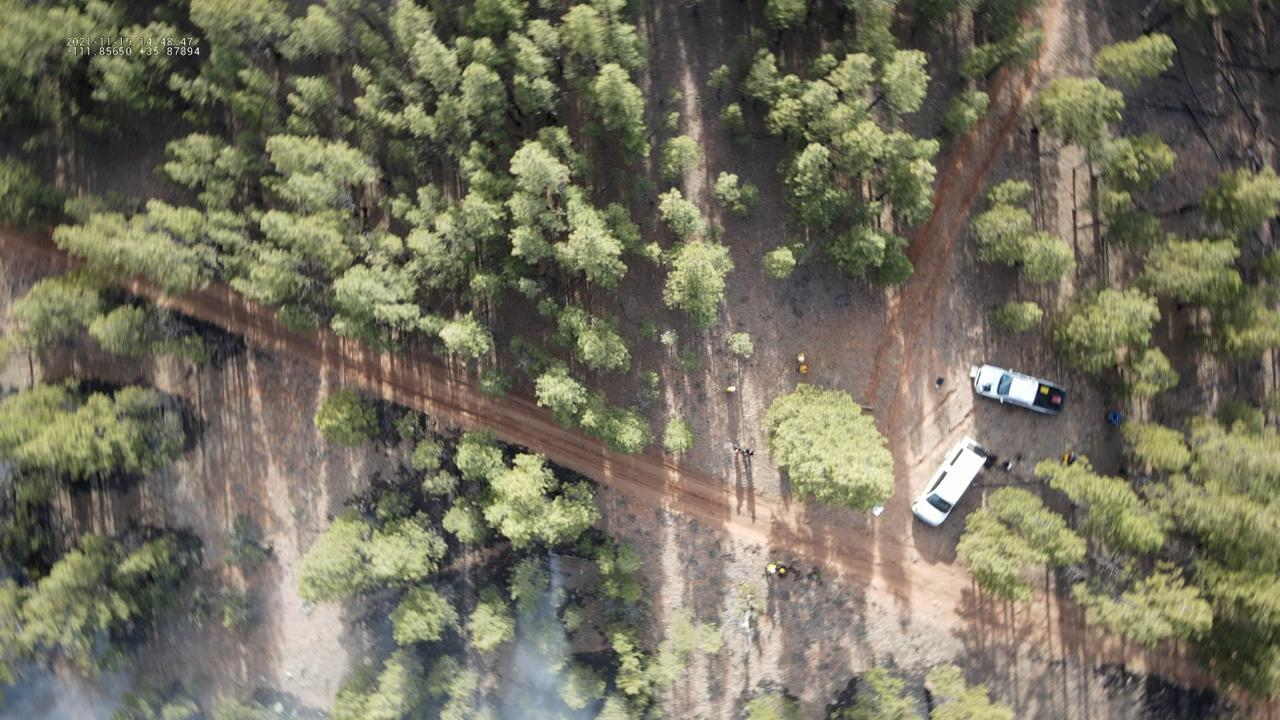smoke: (485, 556, 603, 720), (0, 621, 133, 720)
